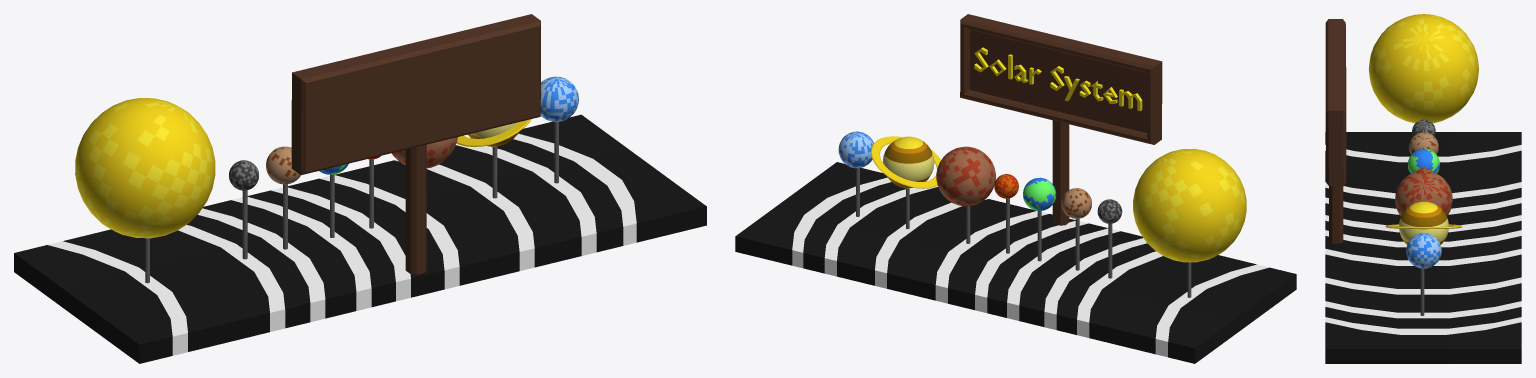
File: molecular-model-display.glb
The picture shows the model from 3 angles, left to right: view 1: azimuth 30°, elevation 25°; view 2: azimuth 150°, elevation 25°; view 3: azimuth 270°, elevation 25°; orthographic projection. The views are drawn at different scales.
Parts seen in each view (by area): view 1: Object_120, Object_138, Object_124, Object_136, Object_134, Object_128, Object_126, Object_132; view 2: Object_120, Object_138, Object_124, Object_132, Object_134, Object_139, Object_136, Object_122, Object_128, Object_126, Object_130; view 3: Object_120, Object_124, Object_138, Object_132, Object_134, Object_136, Object_122, Object_128, Object_126.
Part boxes in pixels (box(x1,y1,x2,y2)): Object_120: box(14, 114, 706, 363); Object_138: box(291, 14, 540, 274); Object_124: box(75, 98, 215, 283); Object_136: box(540, 76, 578, 183); Object_134: box(456, 119, 531, 198); Object_128: box(266, 146, 300, 249); Object_126: box(229, 160, 258, 259); Object_132: box(391, 137, 457, 168); Object_120: box(735, 162, 1296, 363); Object_138: box(960, 14, 1162, 225); Object_124: box(1133, 148, 1246, 297); Object_132: box(936, 146, 995, 243); Object_134: box(871, 136, 940, 228); Object_139: box(974, 47, 1142, 111); Object_136: box(838, 131, 873, 216); Object_122: box(1023, 177, 1056, 261); Object_128: box(1061, 188, 1091, 270); Object_126: box(1097, 199, 1122, 278); Object_130: box(994, 174, 1018, 253); Object_120: box(1325, 132, 1521, 363); Object_124: box(1368, 14, 1478, 123); Object_138: box(1325, 19, 1346, 243); Object_132: box(1395, 170, 1452, 216); Object_134: box(1385, 201, 1462, 244); Object_136: box(1406, 233, 1441, 315); Object_122: box(1407, 148, 1439, 173); Object_128: box(1409, 132, 1438, 154); Object_126: box(1412, 119, 1435, 136).
Size of the model in its own units: 1.46 by 0.5974 by 0.5583.
2 materials, 2 textured.
